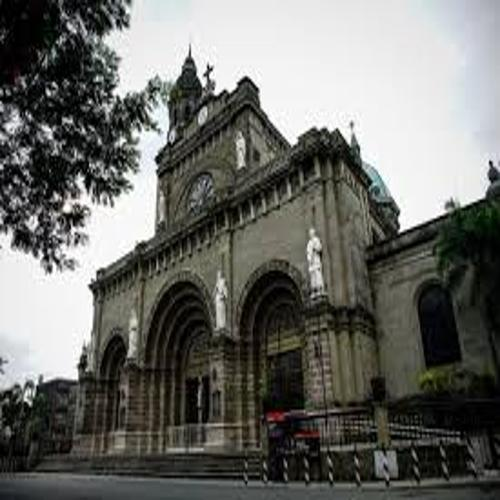Manila Cathedral Church: (50, 30, 451, 466)
